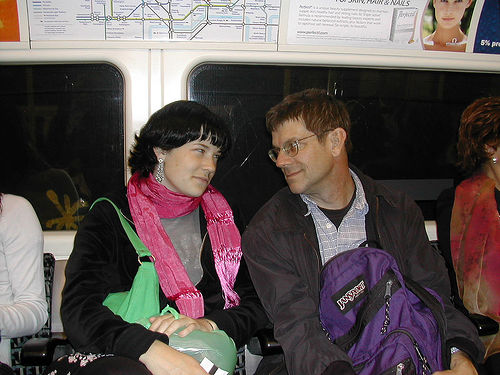without_mask: (269, 119, 351, 200), (149, 124, 225, 201)
